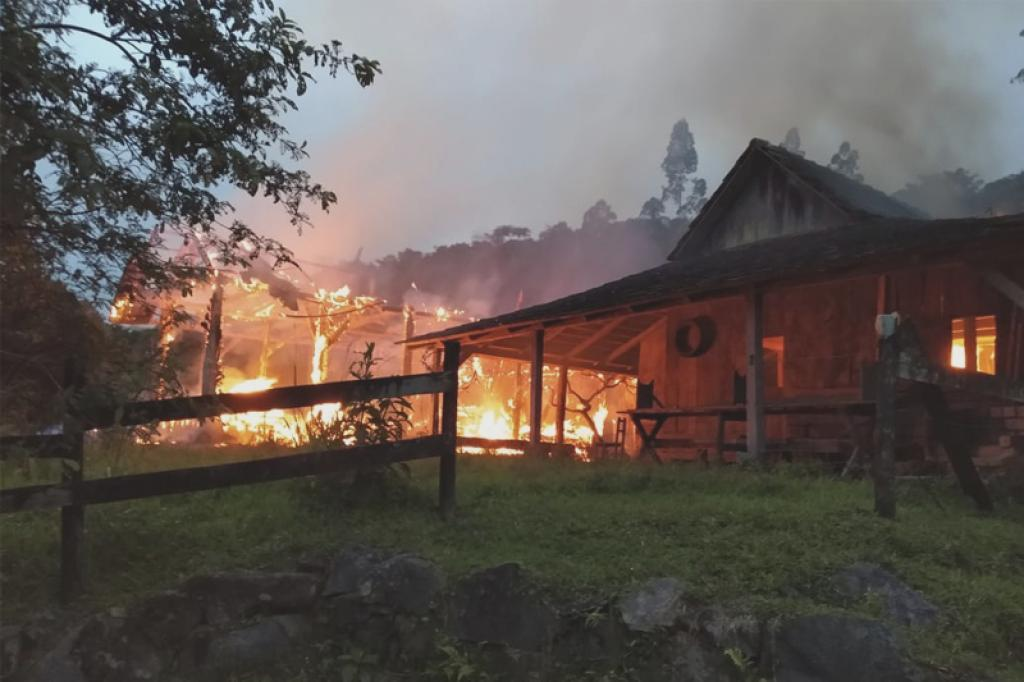Fire: (281, 7, 1010, 319), (458, 397, 611, 460), (229, 402, 361, 447), (309, 325, 353, 382), (313, 284, 376, 309), (221, 373, 285, 396), (950, 344, 987, 376), (454, 354, 487, 388), (433, 303, 468, 324), (102, 302, 134, 320)
